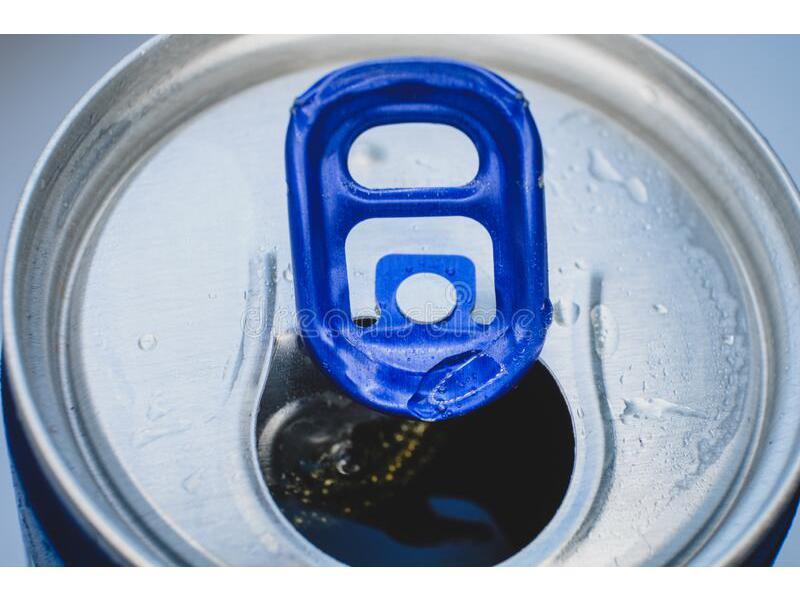can: (3, 37, 800, 566)
